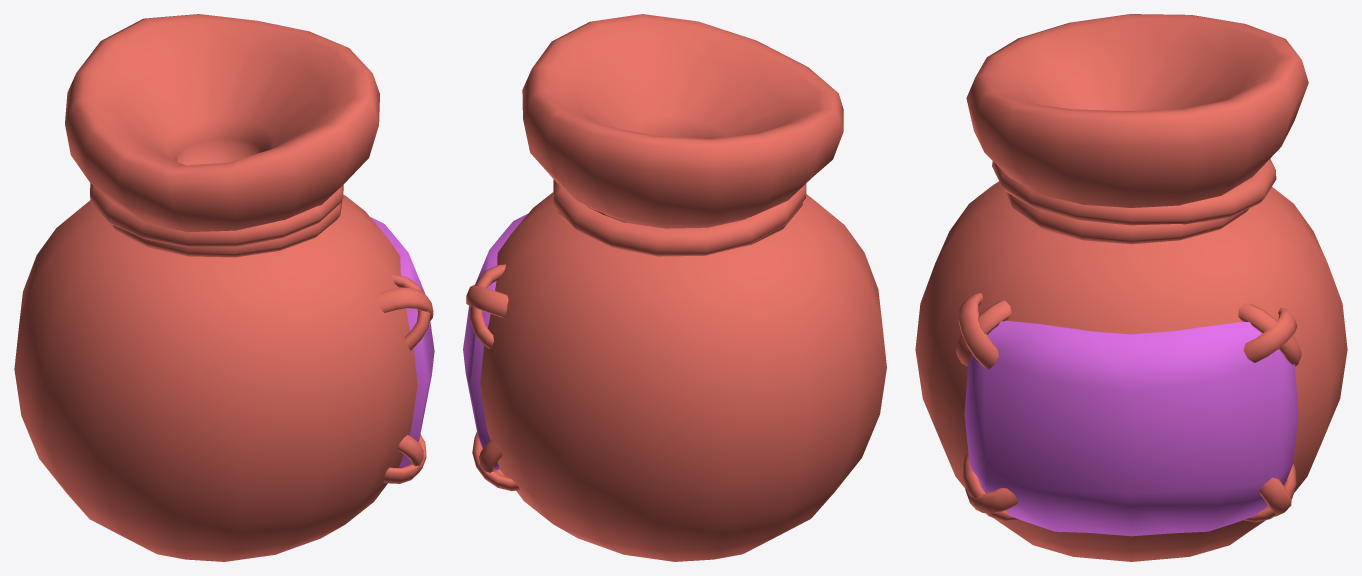
Rendered from SeedBag.fbx.
The picture shows the model from 3 angles, left to right: view 1: azimuth 30°, elevation 25°; view 2: azimuth 150°, elevation 25°; view 3: azimuth 270°, elevation 25°; orthographic projection. The views are drawn at different scales.
Parts seen in each view (by area): view 1: SeedBag; view 2: SeedBag; view 3: SeedBag.
Boxes of the visible parts, x1,y1,x2,y2 form: SeedBag: [14, 14, 434, 561]; SeedBag: [463, 14, 886, 561]; SeedBag: [915, 14, 1347, 561].
Size of the model in its own units: 287 by 346 by 281.
